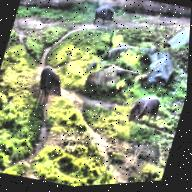boar: (32, 62, 70, 108), (126, 91, 162, 130), (92, 3, 117, 28)
